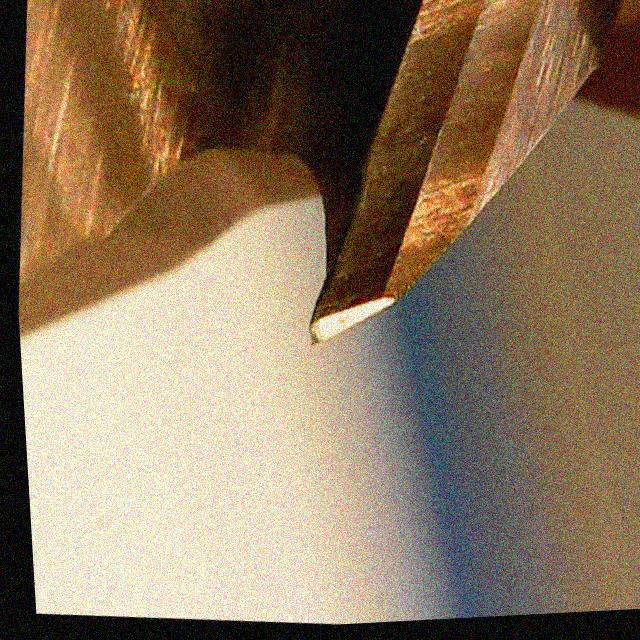Tool-wear-class-1: (273, 51, 498, 377)
